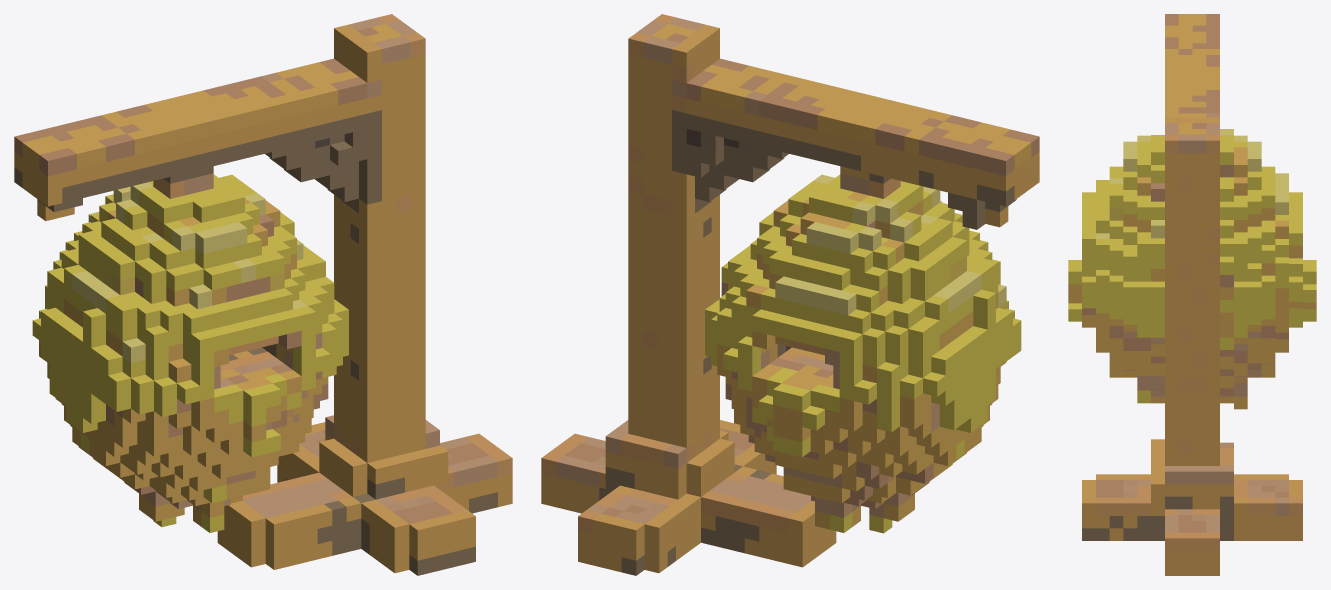
The model's file is beehive_voxel.glb.
The picture shows the model from 3 angles, left to right: view 1: azimuth 30°, elevation 25°; view 2: azimuth 150°, elevation 25°; view 3: azimuth 270°, elevation 25°; orthographic projection. The views are drawn at different scales.
Size of the model in its own units: 32 by 32 by 18.
